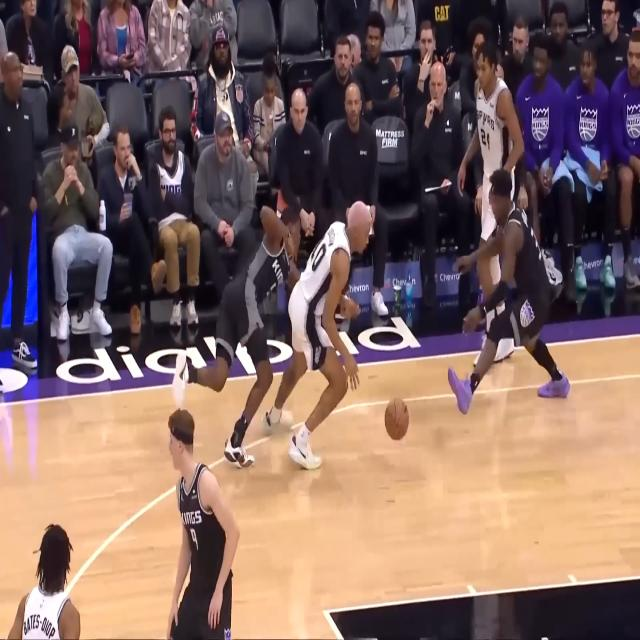Ball: (384, 396, 410, 441)
Player: (171, 203, 360, 468), (256, 202, 372, 472), (448, 167, 573, 416), (456, 38, 525, 367), (163, 409, 240, 640), (3, 525, 80, 640)
